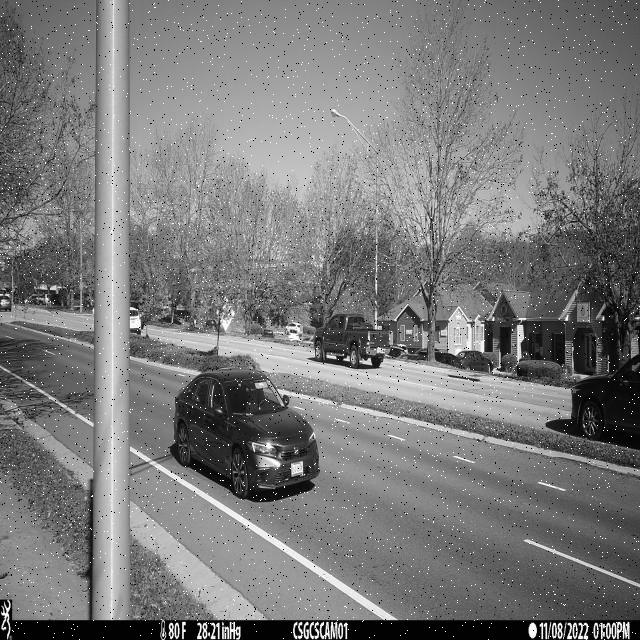Sedan: (173, 367, 320, 500)
